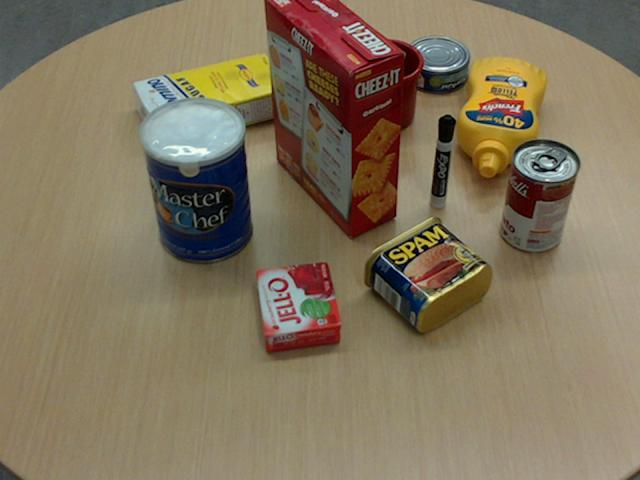cracker_box: (264, 0, 402, 237)
gelatin_box: (256, 261, 340, 351)
large_marker: (430, 115, 455, 207)
master_chef_can: (139, 97, 252, 263)
mug: (346, 38, 424, 131)
mustard_bottle: (455, 57, 545, 177)
potted_meat_can: (362, 215, 491, 331)
sugar_box: (132, 51, 291, 146)
tomato_soup_can: (500, 138, 579, 252)
tuna_fish_can: (403, 35, 469, 92)
